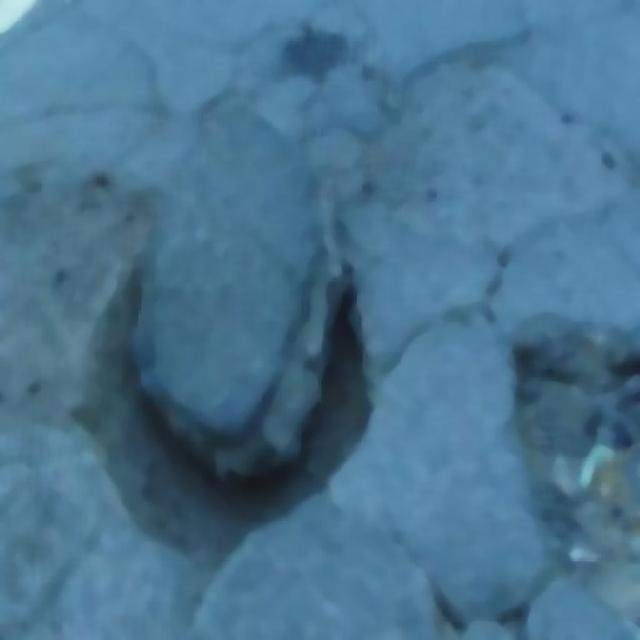Pothole: (515, 339, 639, 576)
